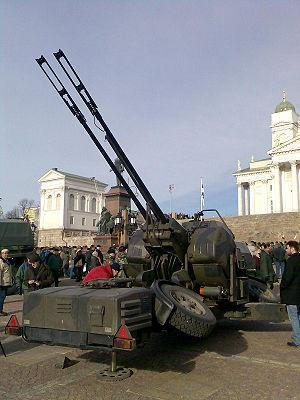MIL_SPG: (23, 50, 247, 380)
